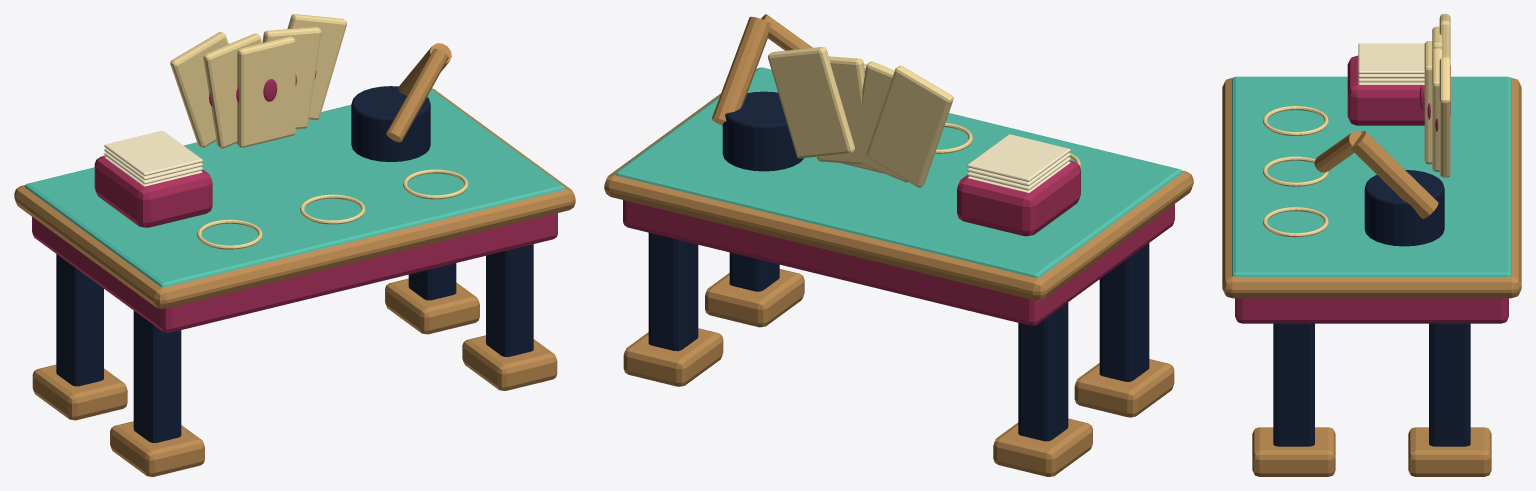
The model's file is Blackjack.fbx.
3 renders of one model, left to right at view 1: azimuth 30°, elevation 25°; view 2: azimuth 150°, elevation 25°; view 3: azimuth 270°, elevation 25°, orthographic. The views are drawn at different scales.
Parts seen in each view (by area): view 1: Blackjack.Mesh, Blackjack.DealerArm.Mesh; view 2: Blackjack.Mesh, Blackjack.DealerArm.Mesh; view 3: Blackjack.Mesh, Blackjack.DealerArm.Mesh.
Boxes of the visible parts, bbox=[...] form: Blackjack.Mesh: bbox=[14, 14, 575, 476]; Blackjack.DealerArm.Mesh: bbox=[386, 43, 451, 142]; Blackjack.Mesh: bbox=[604, 47, 1193, 476]; Blackjack.DealerArm.Mesh: bbox=[711, 14, 812, 125]; Blackjack.Mesh: bbox=[1222, 14, 1521, 476]; Blackjack.DealerArm.Mesh: bbox=[1314, 131, 1438, 218].
Bounding box in the file's own units: 270 × 207 × 165.
